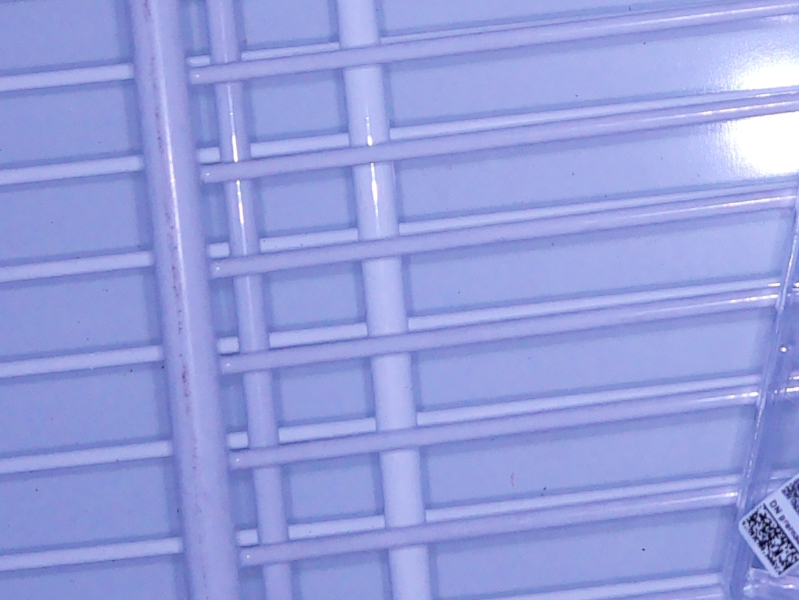plate: (722, 208, 799, 600)
